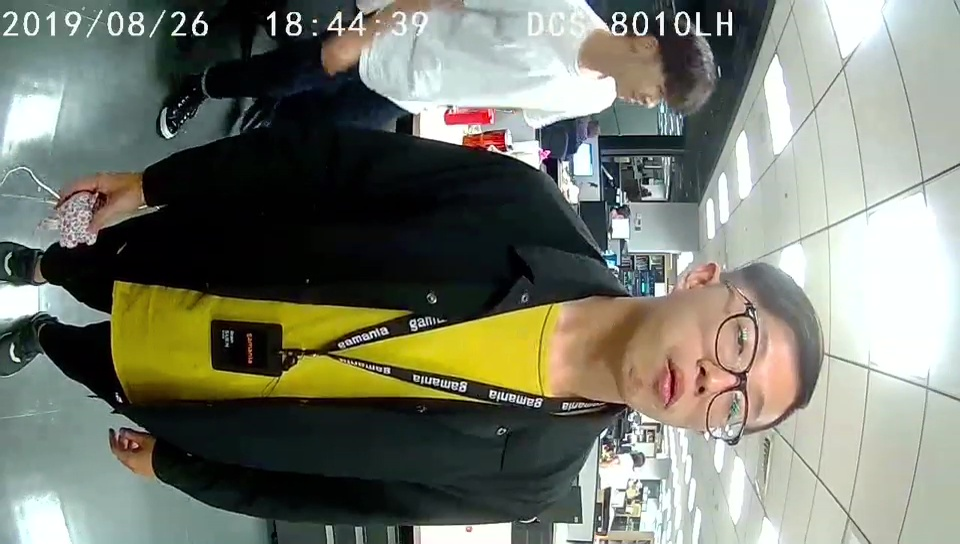pig: (55, 189, 102, 250)
